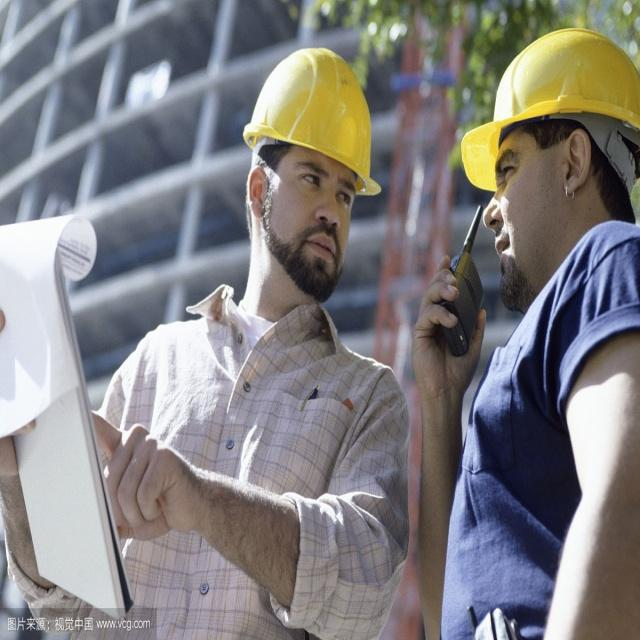helmet: (466, 30, 640, 422), (239, 61, 380, 400)
